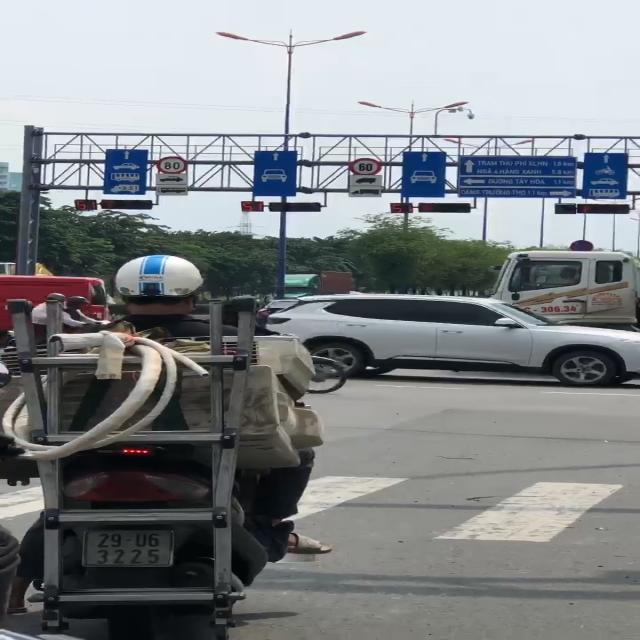Bien bao toc do toi da cho phep: (343, 156, 383, 178), (153, 154, 194, 174)
